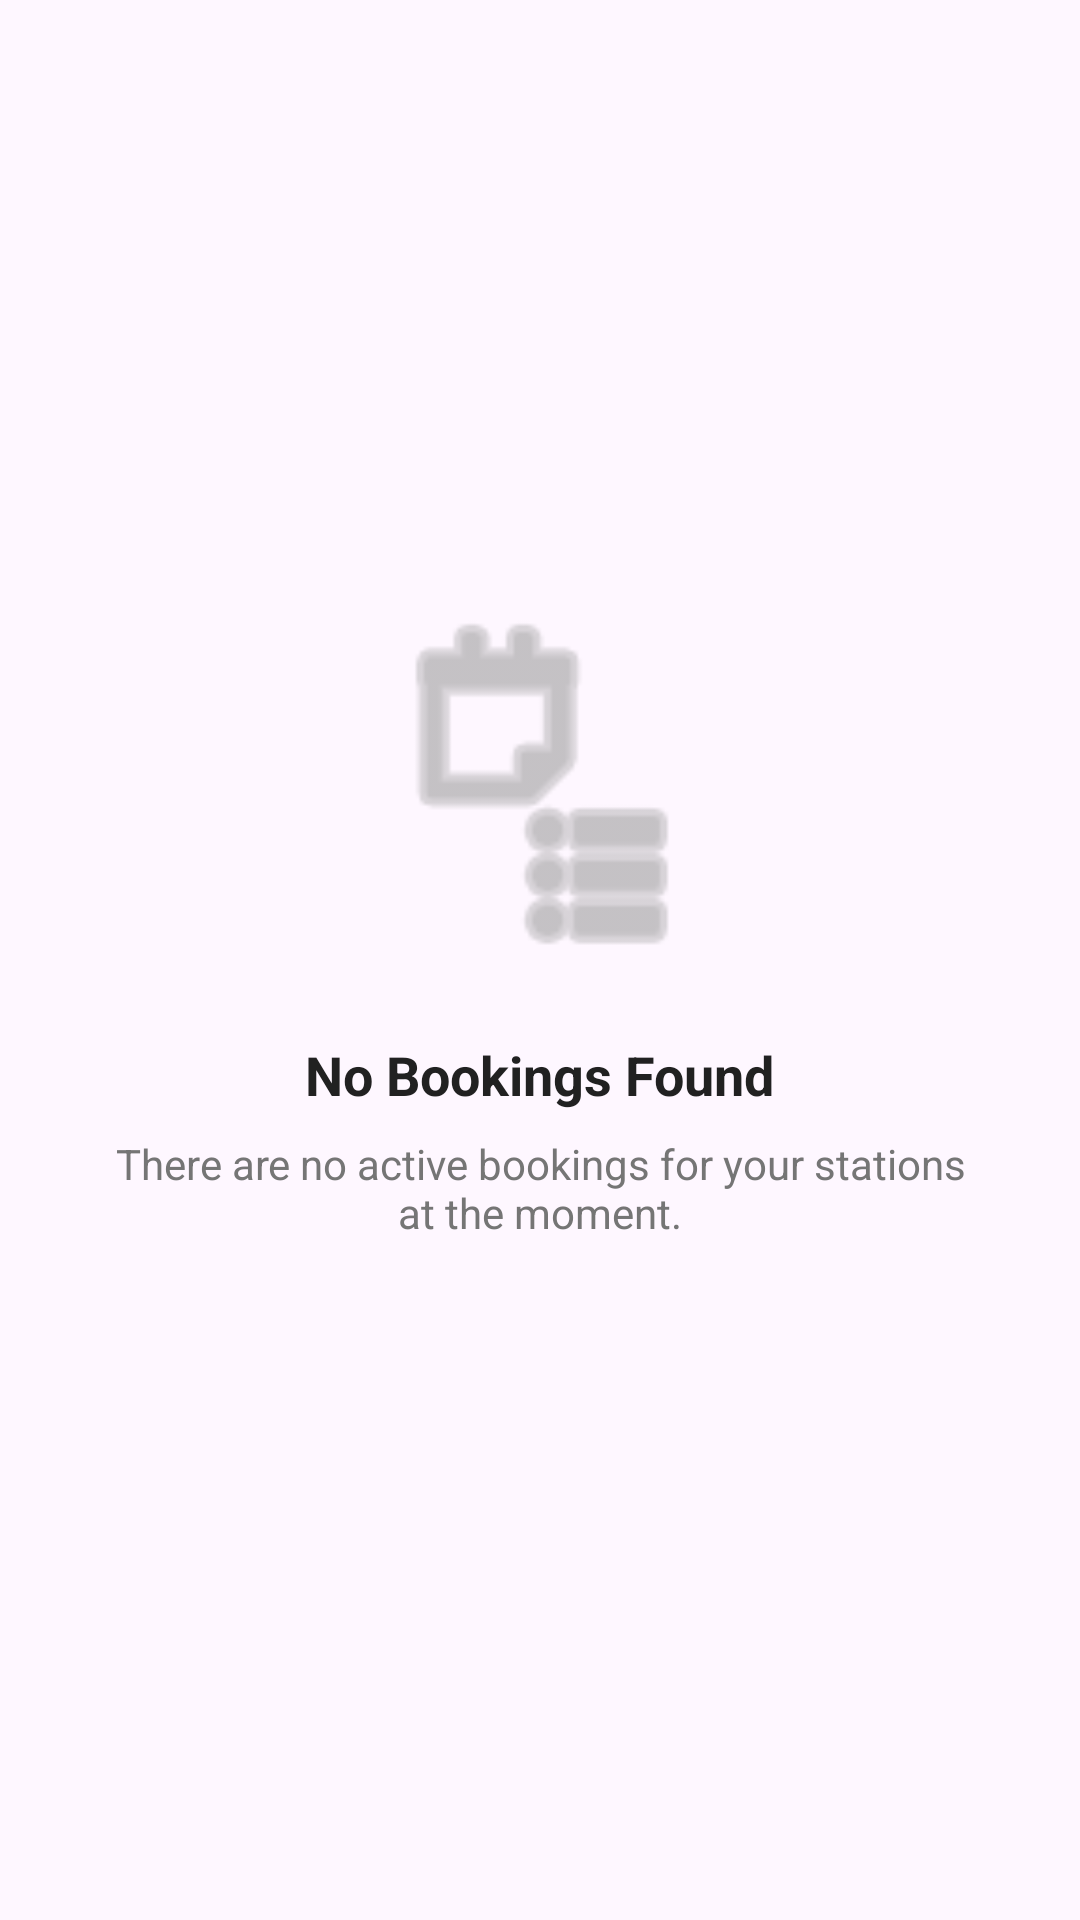

Screen size 1080×1920. Icon name, then its box in pixels as (left=x1, top=y1, right=x2, bottom=y2):
agenda: (left=417, top=625, right=667, bottom=943)
